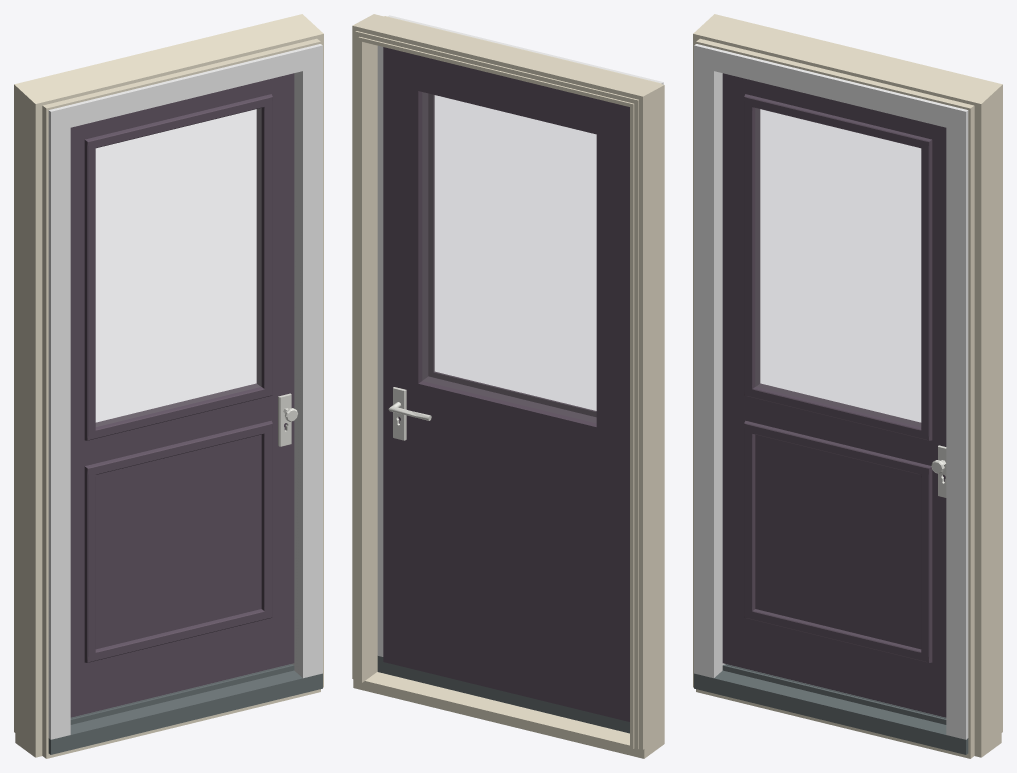
3 views of the same model, side by side, from view 1: azimuth 30°, elevation 25°; view 2: azimuth 150°, elevation 25°; view 3: azimuth 330°, elevation 25° (orthographic).
Visible parts, largest first — view 1: [8693467]Merk A-001.sp, [8693468]DEL_Merk A; view 2: [8693467]Merk A-001.sp, [8693468]DEL_Merk A; view 3: [8693467]Merk A-001.sp, [8693468]DEL_Merk A.
Part boxes in pixels (bbox=[...]): [8693467]Merk A-001.sp: bbox=[48, 44, 322, 754]; [8693468]DEL_Merk A: bbox=[14, 14, 323, 758]; [8693467]Merk A-001.sp: bbox=[377, 15, 663, 733]; [8693468]DEL_Merk A: bbox=[352, 14, 664, 758]; [8693467]Merk A-001.sp: bbox=[694, 44, 968, 754]; [8693468]DEL_Merk A: bbox=[693, 14, 1002, 758].
Size of the model in its own units: 1.16 by 2.54 by 0.212.
